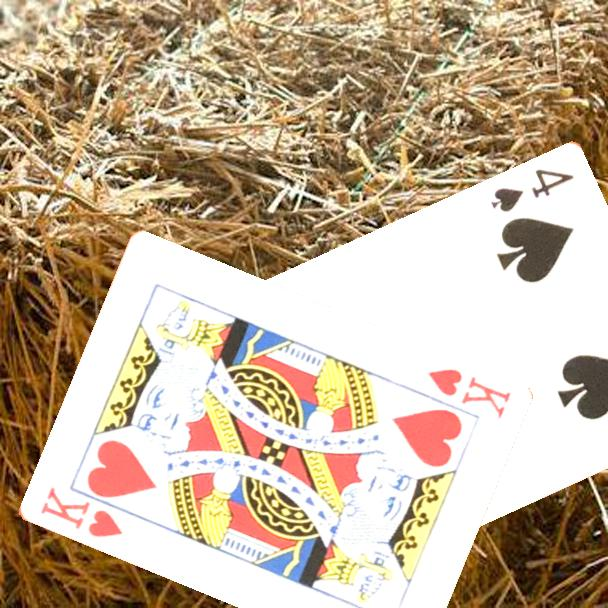h13: (36, 484, 125, 541), (424, 365, 513, 422)
s04: (487, 164, 577, 215)
